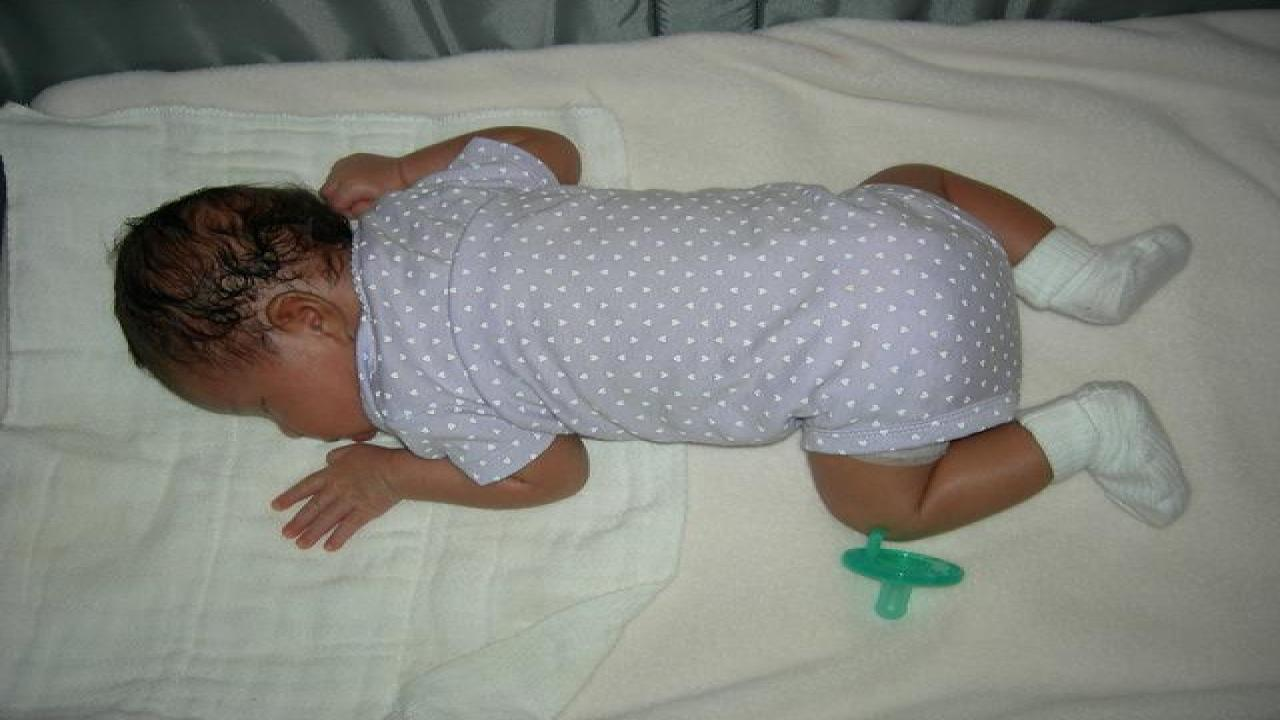hand: (265, 446, 405, 551), (322, 142, 410, 218)
